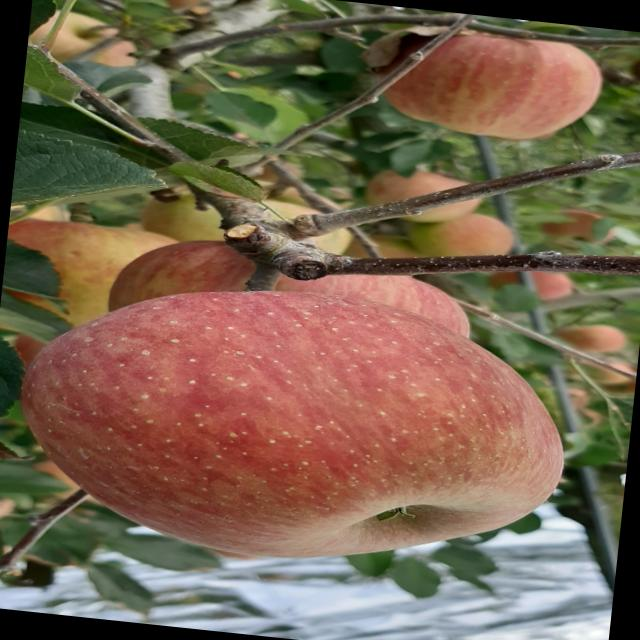fresh: (1, 257, 592, 594)
